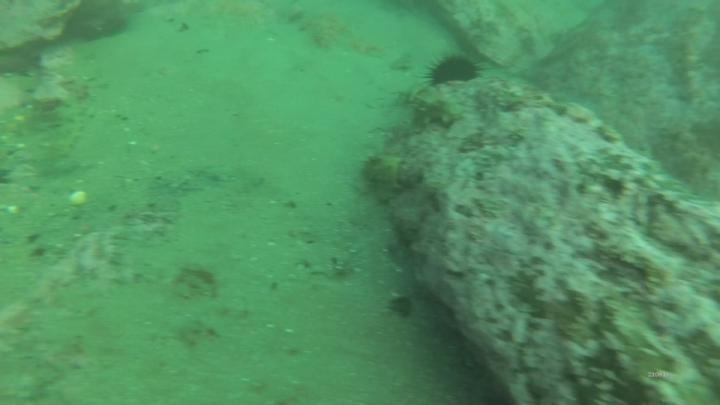echinus: (430, 51, 480, 89)
holothurian: (399, 84, 465, 128), (47, 91, 88, 159), (360, 151, 406, 197)
